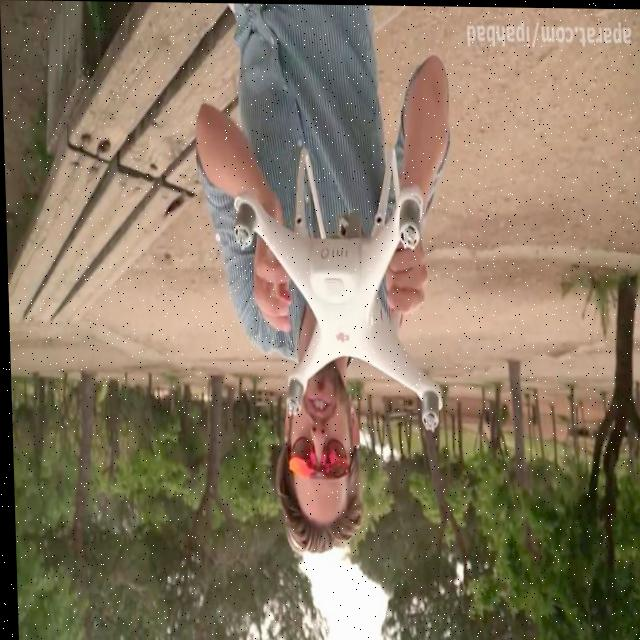drone: (230, 147, 443, 437)
